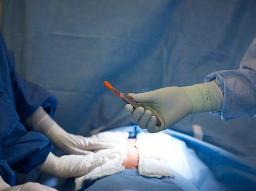scalpel: (104, 81, 162, 127)
